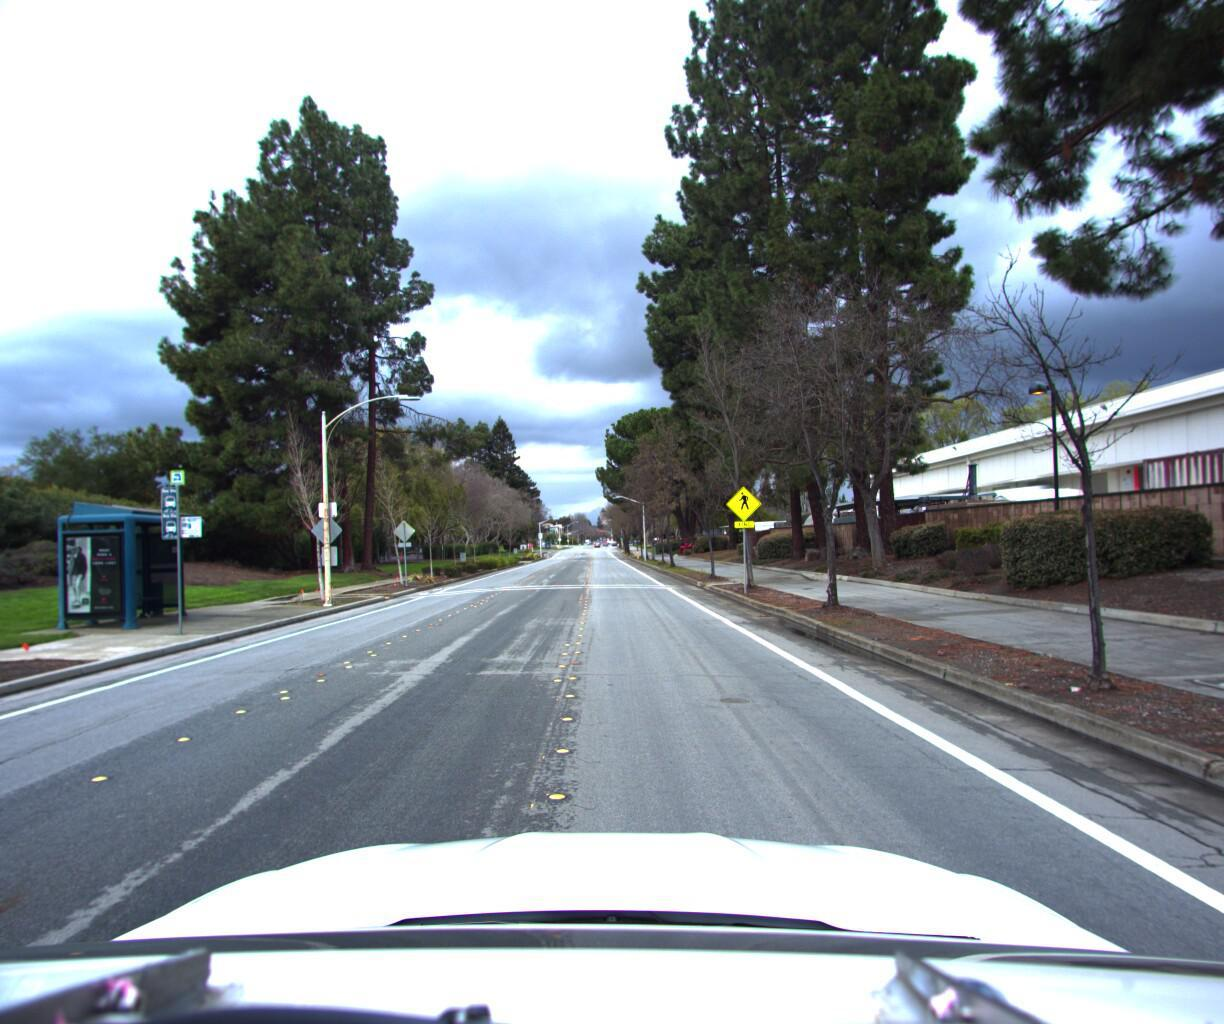truck: (730, 511, 837, 548)
